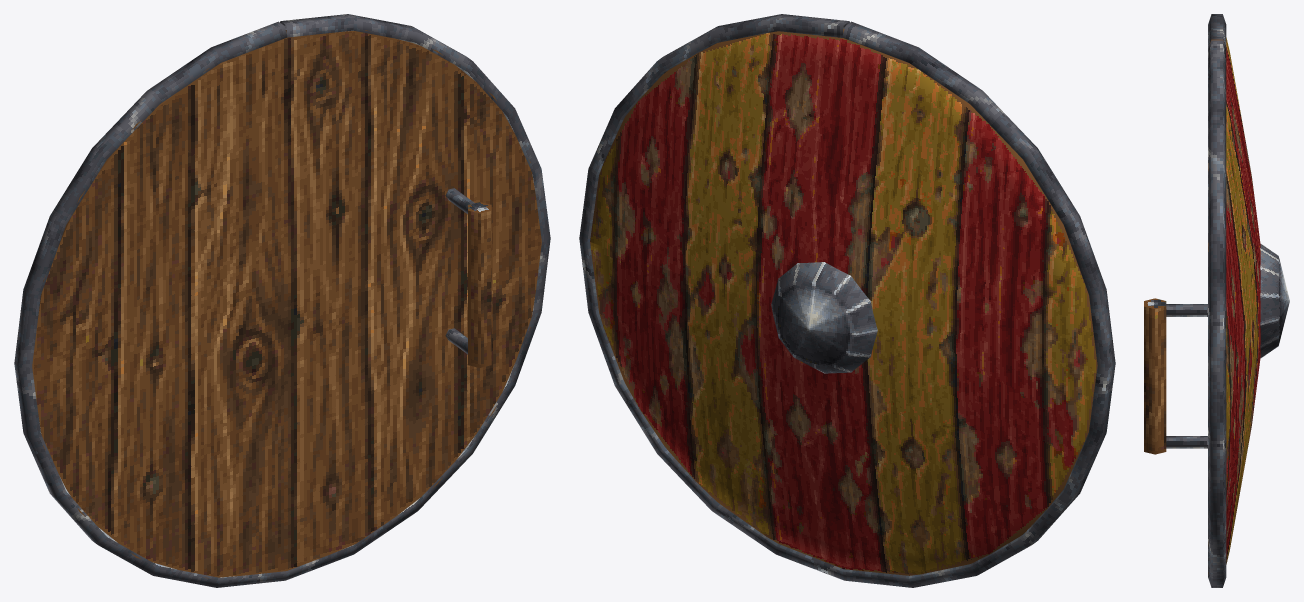
File: ironbound.glb
The picture shows the model from 3 angles, left to right: view 1: azimuth 30°, elevation 25°; view 2: azimuth 150°, elevation 25°; view 3: azimuth 270°, elevation 25°; orthographic projection. The views are drawn at different scales.
Visible parts, largest first — view 1: ironbound; view 2: ironbound; view 3: ironbound.
Part boxes in pixels (x1,y1,x2,y2): ironbound: [14, 14, 550, 587]; ironbound: [579, 14, 1115, 587]; ironbound: [1144, 14, 1289, 587].
Bounding box in the file's own units: 0.5386 × 0.5385 × 0.1364.
1 material, 1 textured.
